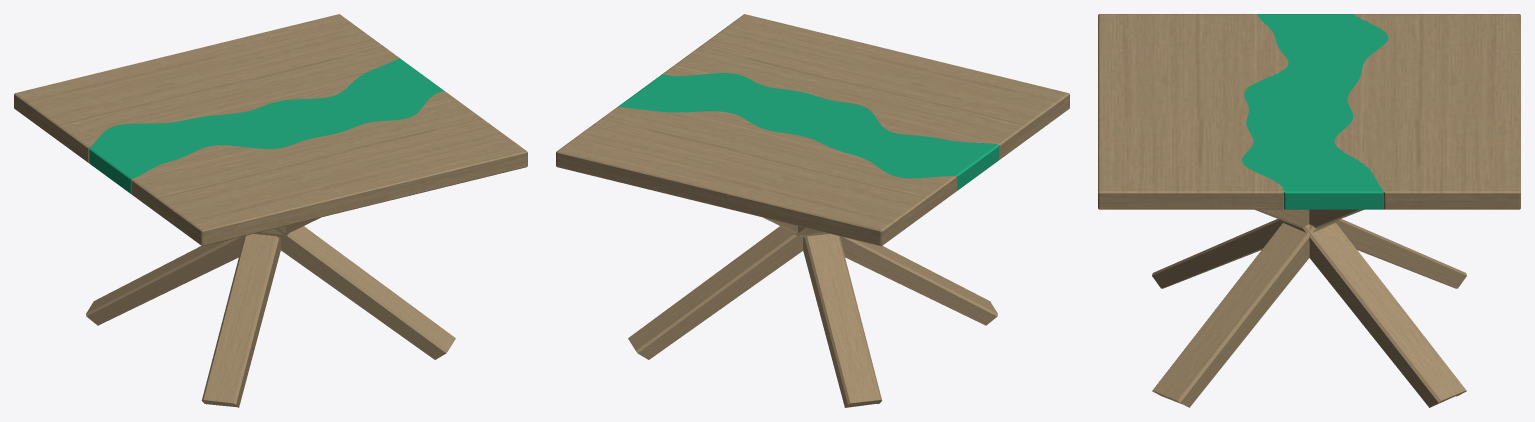
Rendered from square-ash-epoxy-emerald.glb.
The picture shows the model from 3 angles, left to right: view 1: azimuth 30°, elevation 25°; view 2: azimuth 150°, elevation 25°; view 3: azimuth 270°, elevation 25°; orthographic projection. The views are drawn at different scales.
Parts seen in each view (by area): view 1: Wood_Square_EpoxyFar, Wood_Square_EpoxyNear, Base_Square, Resin_Square; view 2: Wood_Square_EpoxyNear, Wood_Square_EpoxyFar, Base_Square, Resin_Square; view 3: Wood_Square_EpoxyFar, Wood_Square_EpoxyNear, Base_Square, Resin_Square.
Part boxes in pixels (box(x1,y1,x2,y2)): Wood_Square_EpoxyFar: box(131, 91, 527, 246); Wood_Square_EpoxyNear: box(14, 14, 399, 162); Base_Square: box(86, 217, 455, 407); Resin_Square: box(89, 58, 443, 194); Wood_Square_EpoxyNear: box(556, 107, 956, 246); Wood_Square_EpoxyFar: box(662, 14, 1069, 159); Base_Square: box(628, 217, 997, 407); Resin_Square: box(618, 73, 998, 190); Wood_Square_EpoxyFar: box(1098, 14, 1288, 209); Wood_Square_EpoxyNear: box(1334, 14, 1520, 209); Base_Square: box(1152, 209, 1466, 407); Resin_Square: box(1242, 14, 1388, 209).
Size of the model in its own units: 1.22 by 0.762 by 1.22.
Materials: 2 (1 with a texture image).
